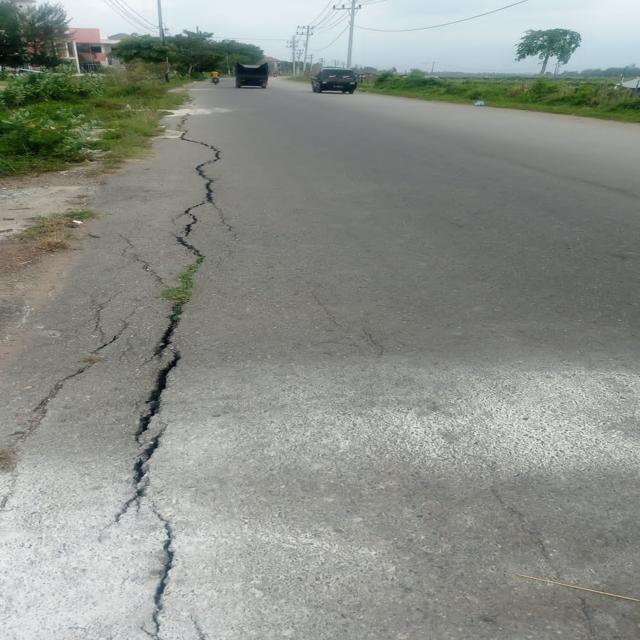Memanjang: (108, 129, 228, 640)
